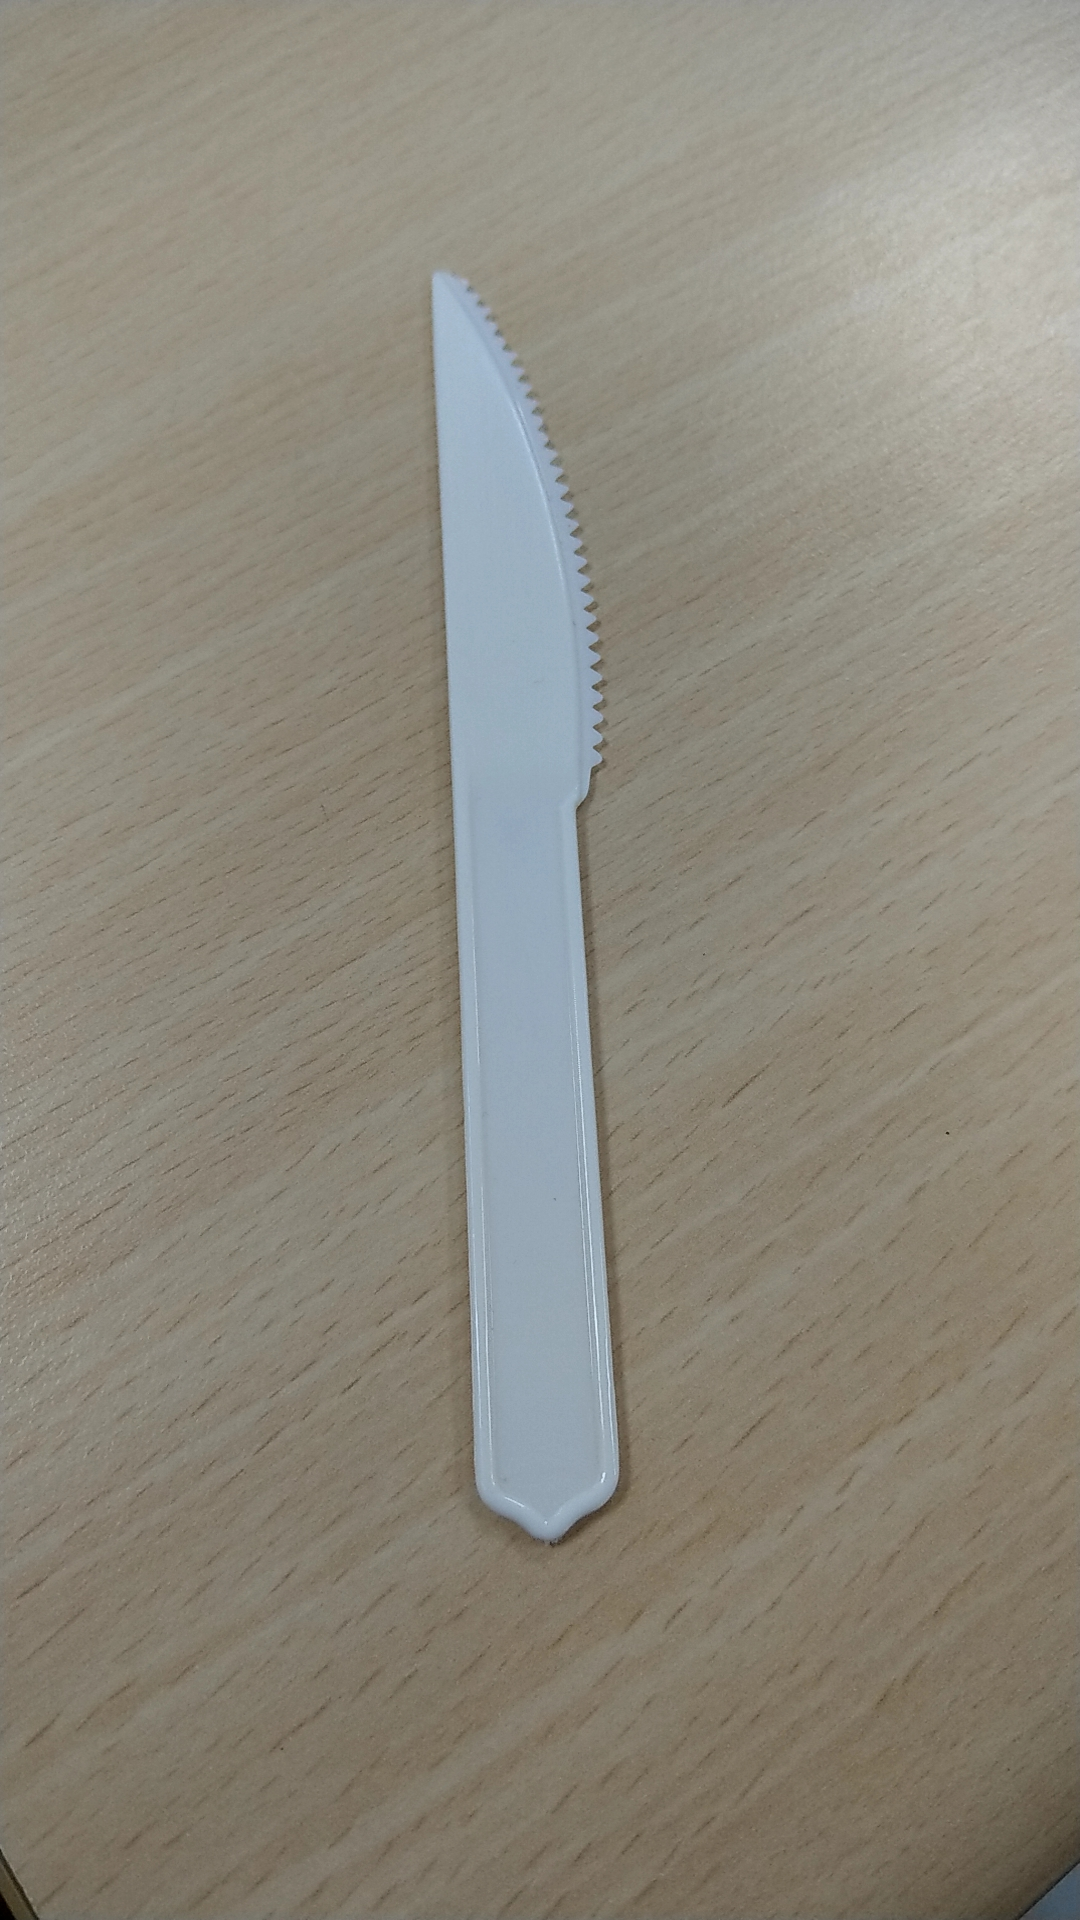knife: (402, 255, 673, 1572)
